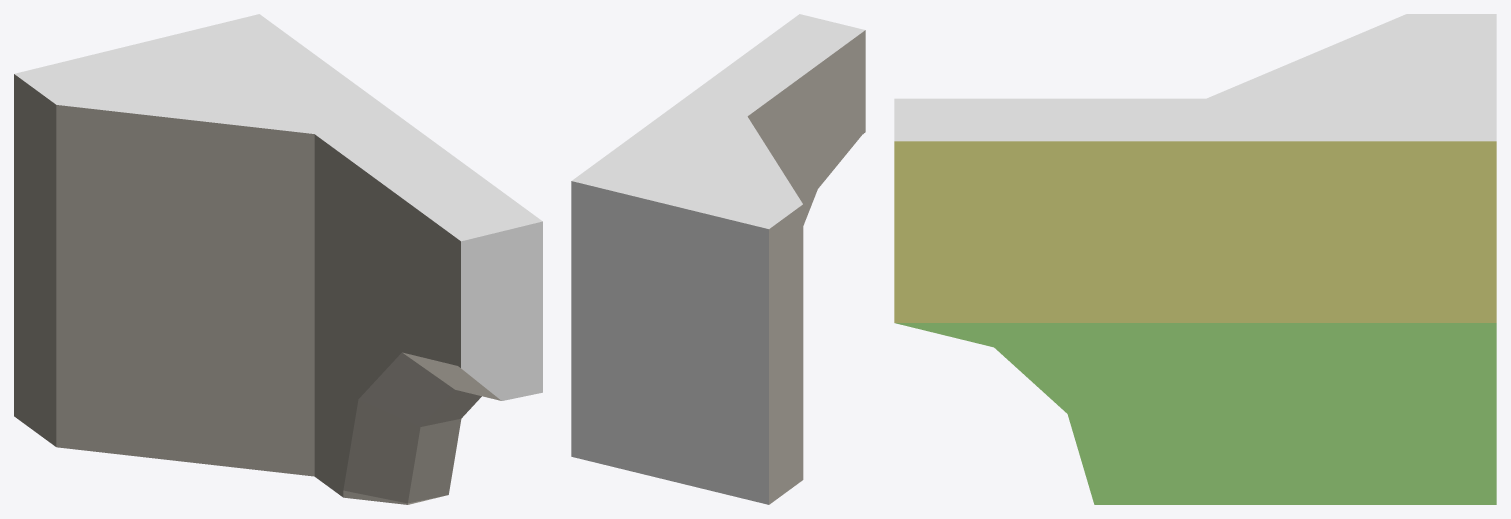
The model's file is Cave_Edge_Esse_Top_3x4.glb.
3 views of the same model, side by side, from view 1: azimuth 30°, elevation 25°; view 2: azimuth 150°, elevation 25°; view 3: azimuth 270°, elevation 25° (orthographic). The views are drawn at different scales.
Visible parts, largest first — view 1: Cave_Edge_Esse_Top_3x4; view 2: Cave_Edge_Esse_Top_3x4; view 3: Cave_Edge_Esse_Top_3x4.
Part boxes in pixels (bbox=[...]): Cave_Edge_Esse_Top_3x4: bbox=[14, 14, 542, 504]; Cave_Edge_Esse_Top_3x4: bbox=[571, 14, 865, 504]; Cave_Edge_Esse_Top_3x4: bbox=[894, 14, 1496, 504].
Size of the model in its own units: 150 by 200 by 300.
